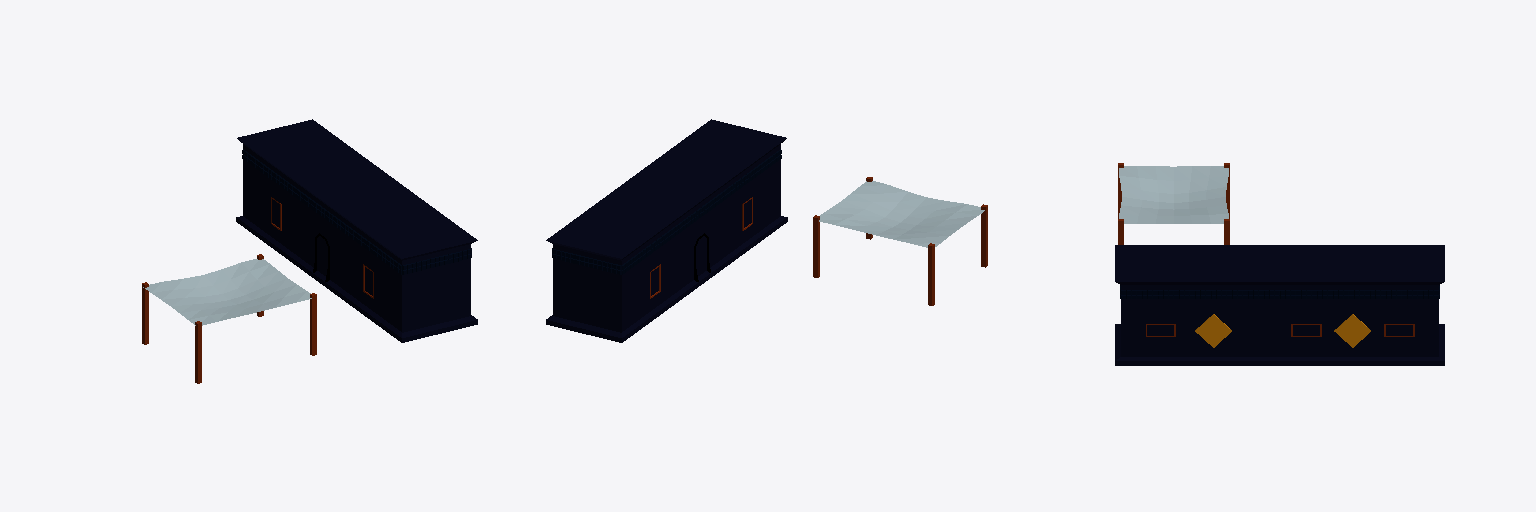
Rendered from Heal_house.obj.
The picture shows the model from 3 angles: view 1: azimuth 30°, elevation 25°; view 2: azimuth 150°, elevation 25°; view 3: azimuth 270°, elevation 25°; orthographic projection.
Visible parts, largest first — view 1: Куб, Плоскость.002_Плоскость.022, Куб.007_Куб.010, Куб.009_Куб.011, Куб.010_Куб.012; view 2: Куб, Плоскость.002_Плоскость.022, Куб.007_Куб.010, Куб.009_Куб.011, Куб.011_Куб.013; view 3: Куб, Плоскость.002_Плоскость.022, Куб.503_Куб.974, Куб.006_Куб.009, Плоскость.001_Плоскость.015, Плоскость_Плоскость.012.
Boxes of the visible parts, box(x1,y1,x2,y2) form: Куб: box(236, 119, 477, 342); Плоскость.002_Плоскость.022: box(143, 259, 311, 325); Куб.007_Куб.010: box(322, 208, 401, 274); Куб.009_Куб.011: box(242, 149, 322, 215); Куб.010_Куб.012: box(402, 249, 471, 274); Куб: box(546, 119, 787, 342); Плоскость.002_Плоскость.022: box(819, 181, 984, 247); Куб.007_Куб.010: box(701, 149, 781, 215); Куб.009_Куб.011: box(622, 208, 701, 274); Куб.011_Куб.013: box(552, 249, 621, 274); Куб: box(1115, 245, 1444, 365); Плоскость.002_Плоскость.022: box(1119, 166, 1228, 223); Куб.503_Куб.974: box(1280, 290, 1438, 298); Куб.006_Куб.009: box(1121, 290, 1279, 298); Плоскость.001_Плоскость.015: box(1195, 314, 1231, 347); Плоскость_Плоскость.012: box(1334, 314, 1370, 347).
Bounding box in the file's own units: 12.15 × 3.5 × 12.48.